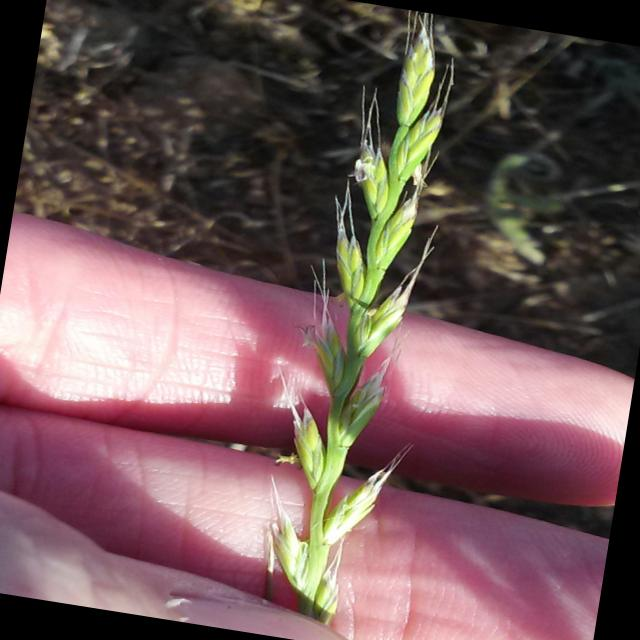Lolium: (244, 3, 480, 636)
